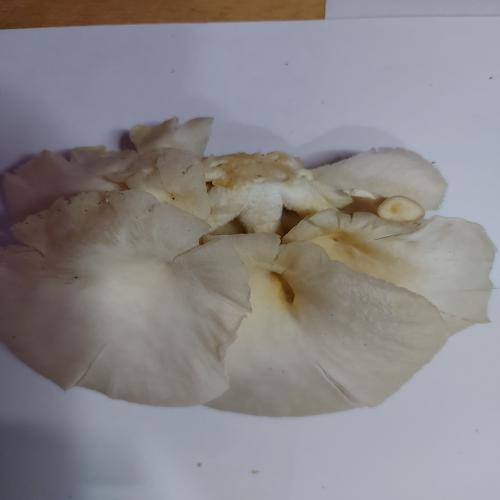Oyster Mushroom: (2, 115, 496, 416)
